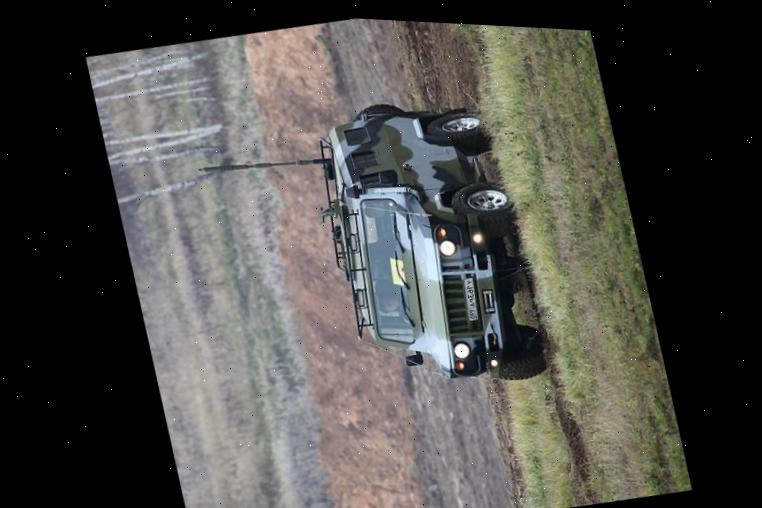armored_car: (186, 72, 554, 435)
